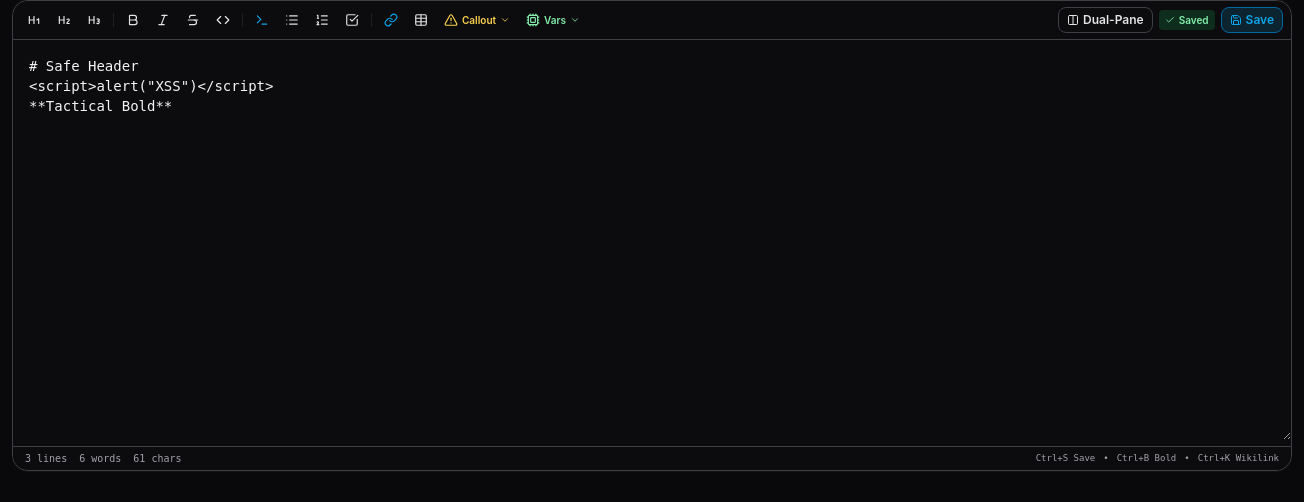
Test case: MarkdownEditor & Multi-Mode In-App Editing Suite › R5: MarkdownEditor Standalone Dual-Pane Split Preview & DOMPurify Sanitization › toggles dual-pane preview and neutralizes malicious script payloads via DOMPurify
Note: Click Dual-Pane toggle button in toolbar
Click the button titled "Toggle Dual-Pane Split Preview". click: {"x": 1105, "y": 20}
box: [1058,7,1153,33]
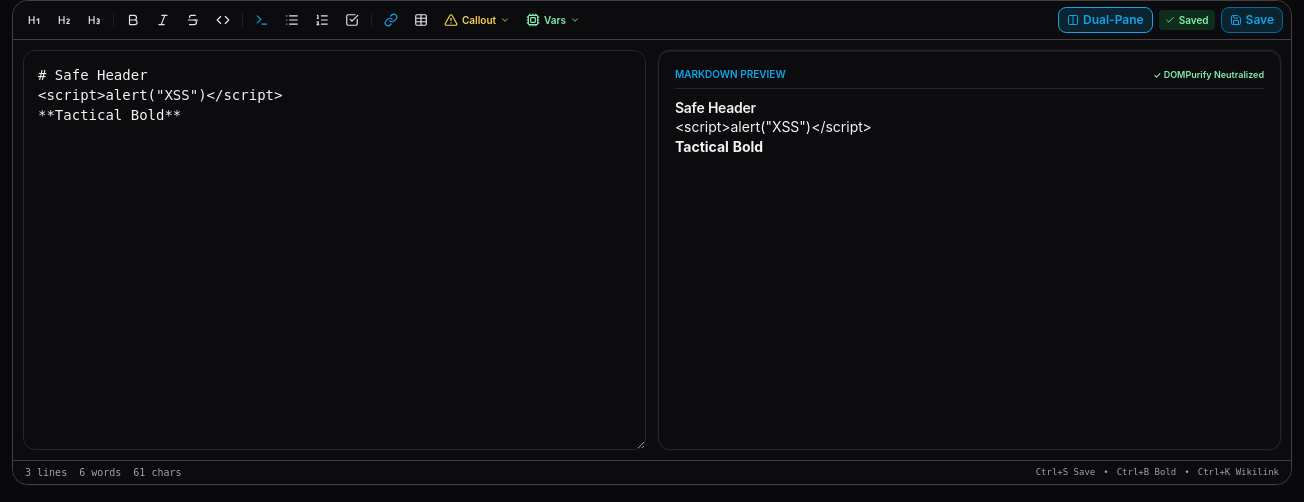
Result: the element with test id "markdown-split-preview" is shown at [675,99,872,154]
Result: the text "MARKDOWN PREVIEW" is shown at [675,67,786,82]
Result: the heading "Safe Header" is shown at [675,99,756,116]
